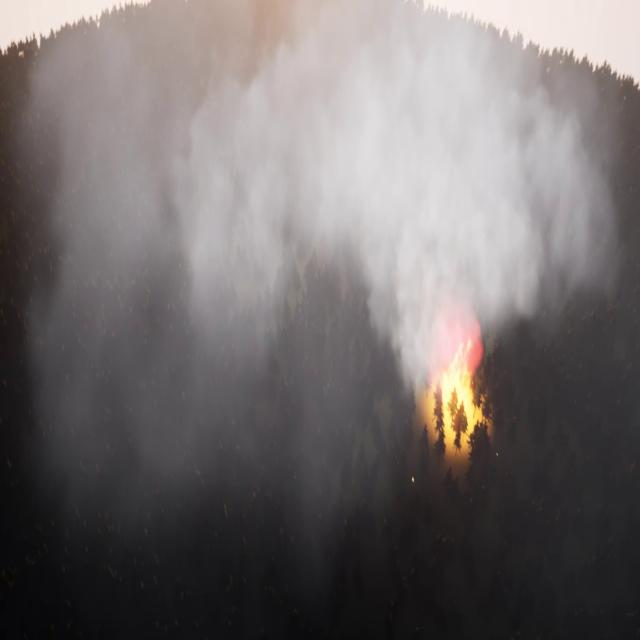fire: (426, 337, 494, 444)
smoke: (14, 0, 636, 541)
